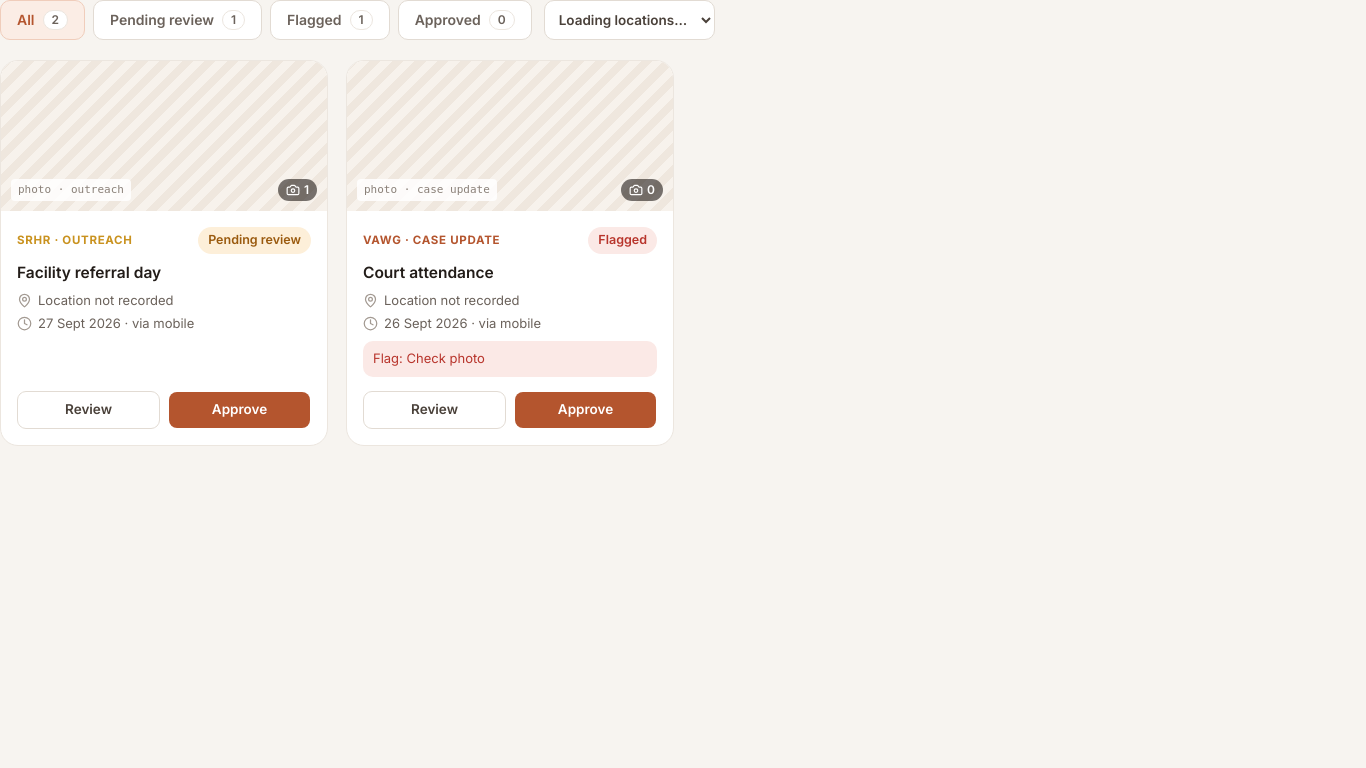
Test: field submissions screen › opens a submission's photo in the document viewer, as in the design
What coordinates should you click on to do the following:
click the button with aria-label "Review Facility referral day"
I would click on:
 (88, 410)
Its box is x1=17 y1=391 x2=160 y2=429.
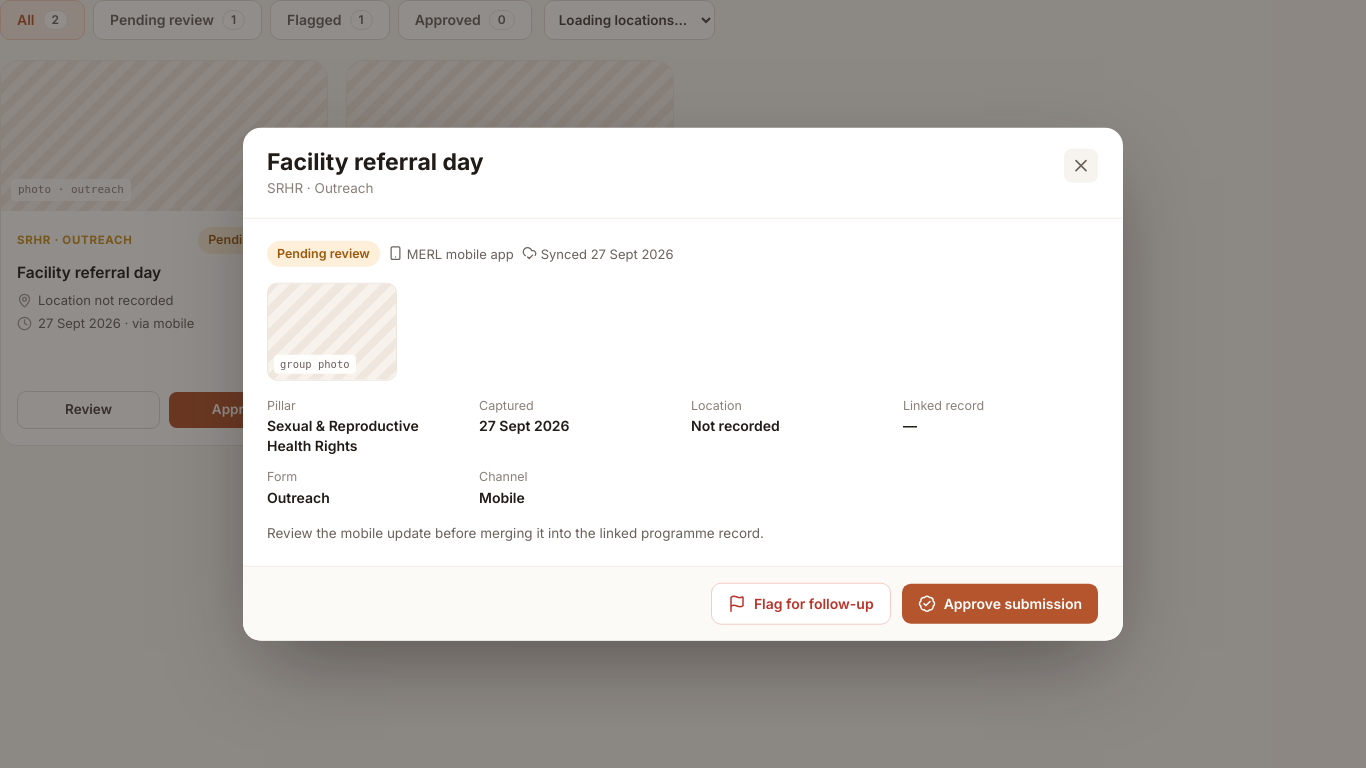
What coordinates should you click on to do the following:
click the button with aria-label "Open photo: group photo"
I would click on:
 (332, 331)
Its box is x1=267 y1=283 x2=397 y2=380.
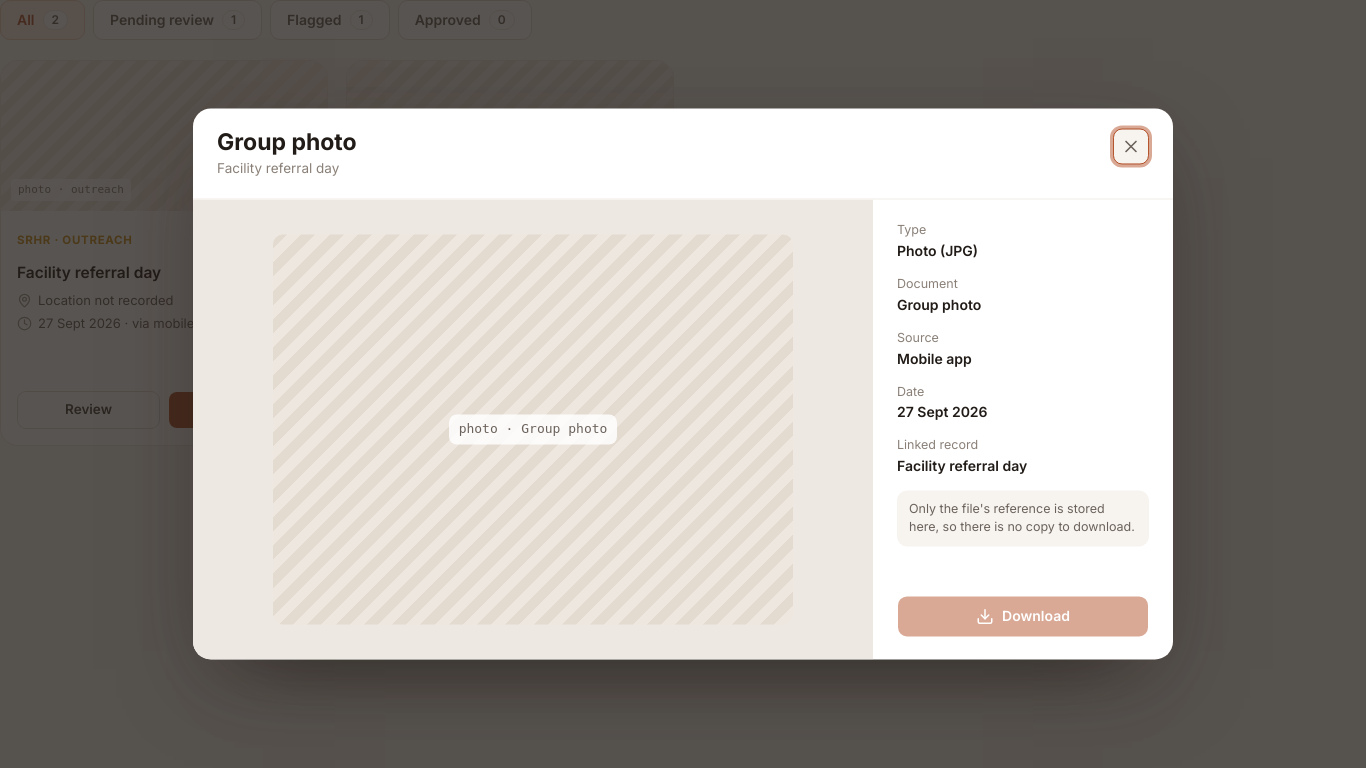
Expected: the dialog "Group photo" shows "Photo (JPG)", x1=897 y1=242 x2=978 y2=259
Expected: the dialog "Group photo" shows "Mobile app", x1=897 y1=350 x2=972 y2=367
Expected: the dialog "Group photo" shows "Facility referral day", x1=217 y1=160 x2=339 y2=176
